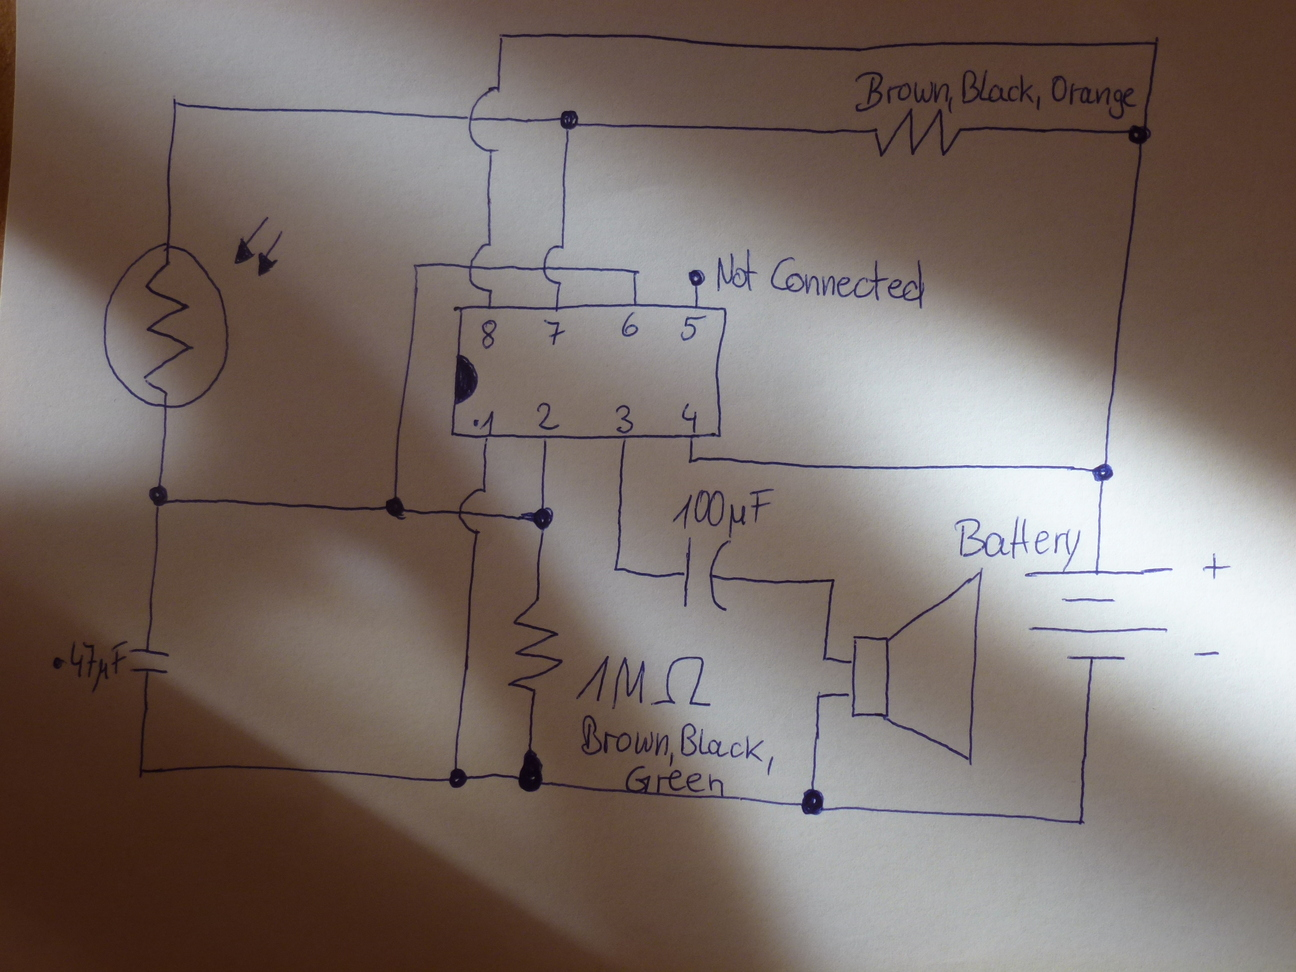capacitor.unpolarized: (677, 535, 738, 615), (123, 641, 171, 682)
crossover: (466, 78, 517, 159), (455, 485, 493, 538), (466, 237, 497, 295), (540, 239, 567, 289)
integrated_circuit: (449, 300, 733, 445)
junction: (511, 749, 549, 799), (142, 479, 175, 511), (525, 503, 558, 534), (796, 783, 826, 818), (1124, 119, 1155, 149), (554, 104, 584, 135), (442, 762, 469, 791), (1088, 459, 1118, 486), (382, 494, 409, 520), (491, 23, 513, 48), (606, 557, 626, 579), (824, 571, 842, 588), (167, 93, 184, 112), (1071, 813, 1089, 830), (684, 453, 700, 468), (134, 765, 148, 779), (812, 689, 826, 703), (1149, 34, 1162, 48), (409, 258, 422, 272), (818, 651, 831, 665), (630, 266, 642, 278)
resistor: (507, 592, 563, 698), (861, 106, 963, 163)
resistor.photo: (96, 211, 286, 410)
speaker: (846, 565, 992, 770)
terminal: (686, 268, 709, 293)
text: (837, 65, 1139, 119), (716, 246, 929, 310), (578, 711, 777, 775), (574, 651, 718, 712), (951, 512, 1086, 572), (670, 485, 776, 538), (622, 764, 731, 797), (67, 638, 130, 694), (533, 401, 563, 434), (540, 314, 564, 348), (611, 403, 637, 435), (477, 318, 499, 349), (680, 314, 702, 342), (680, 400, 700, 428), (472, 410, 494, 434), (621, 310, 639, 337)
voltage.dc: (1017, 564, 1177, 665)
